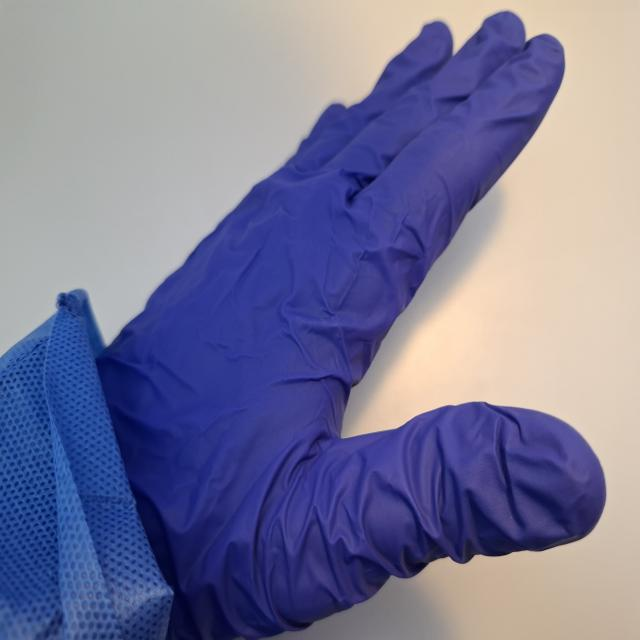glove_on: (79, 5, 611, 640)
